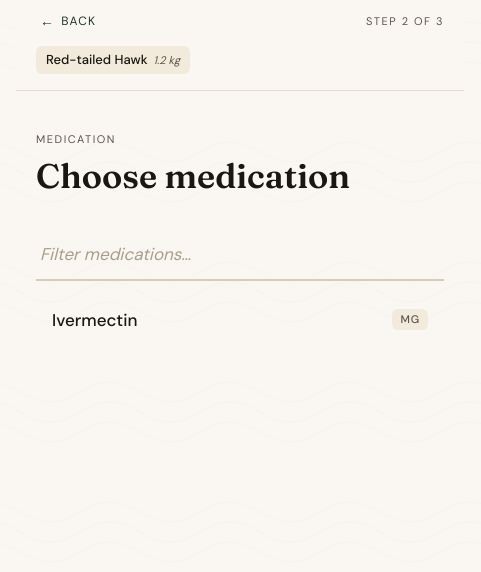
Test case: MedList › keeps bottles selectable when they cover only some of the routes in effect
Step 1. Click the button "Ivermectin mg" → (95, 320), box [36,293,444,349]
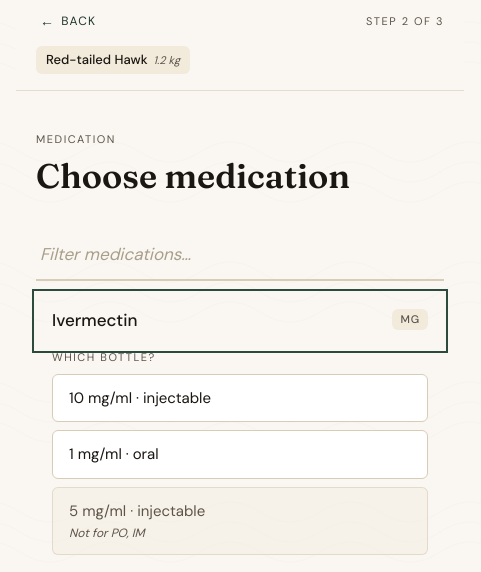
Expected: the button "10 mg/ml · injectable" is shown, [52,374,428,422]
Expected: the button "1 mg/ml · oral" is shown, [52,430,428,478]
Expected: the text "Not for PO, IM" is shown, [69,525,145,541]
